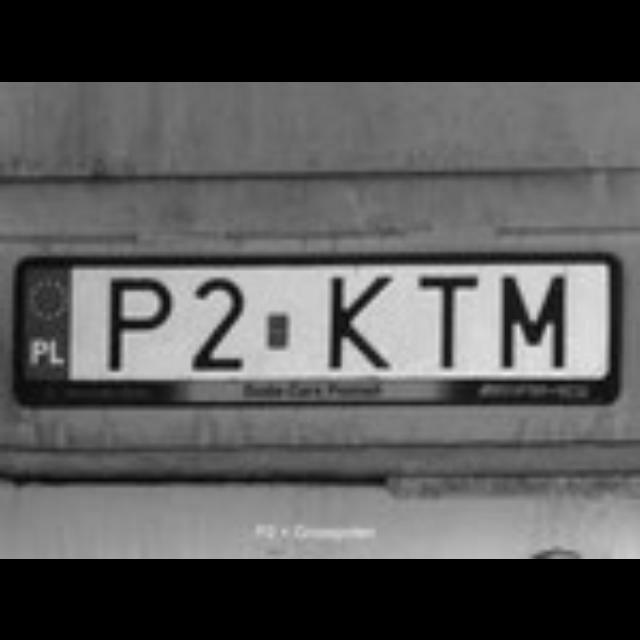licenseplate: (17, 257, 605, 376)
